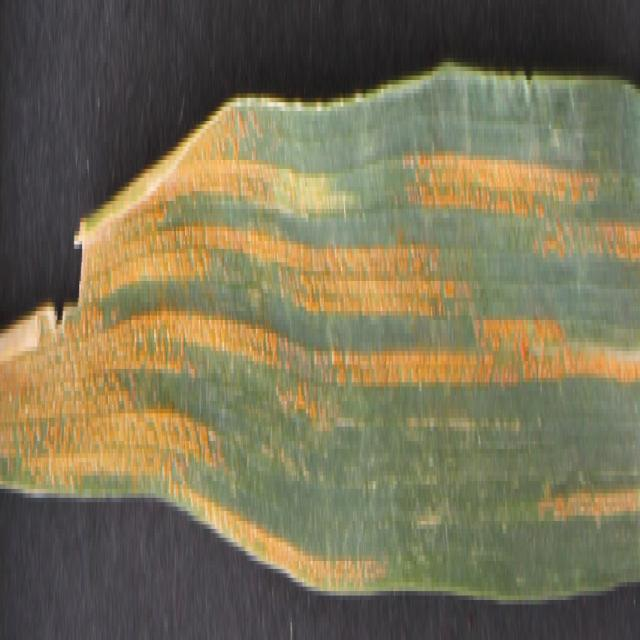leaf rust: (1, 120, 639, 587)
